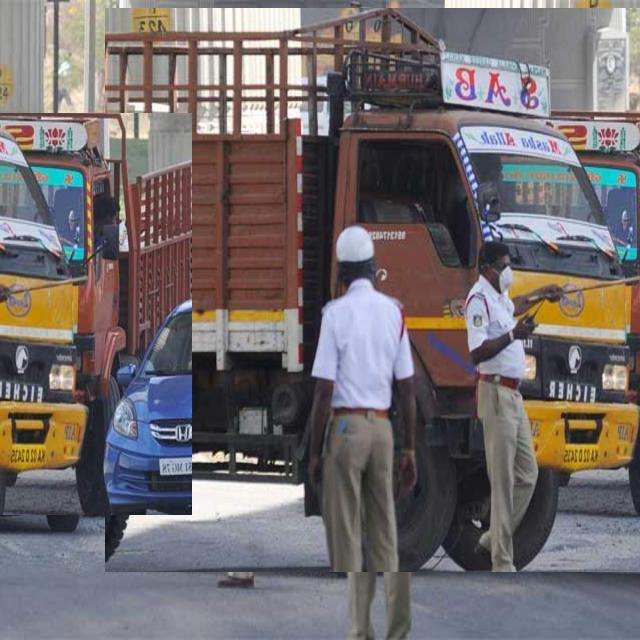car: (0, 300, 88, 531)
truck: (105, 8, 640, 572), (0, 114, 192, 515)
